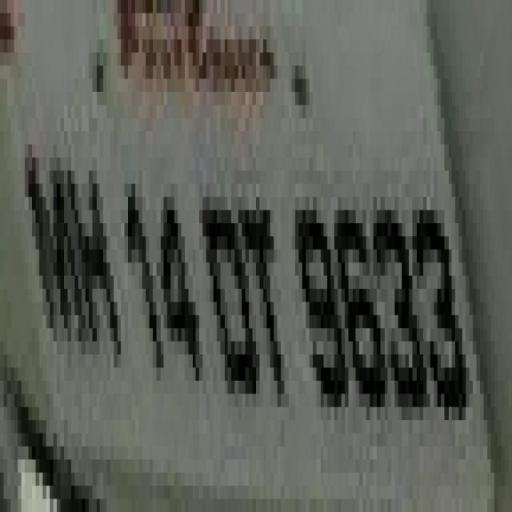number plate: (10, 0, 473, 486)
